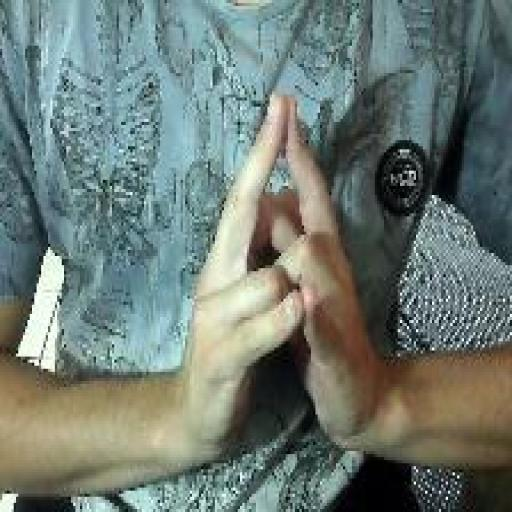Tori -bird-: (180, 86, 380, 466)
